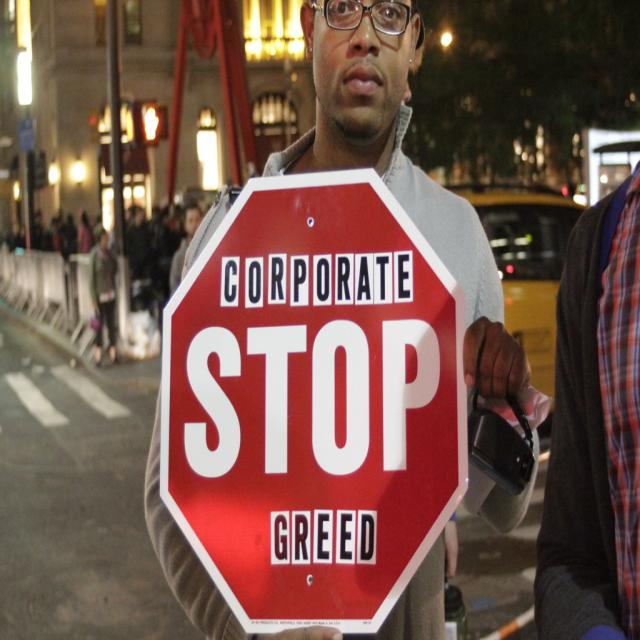Stop-sign: (160, 167, 469, 635)
